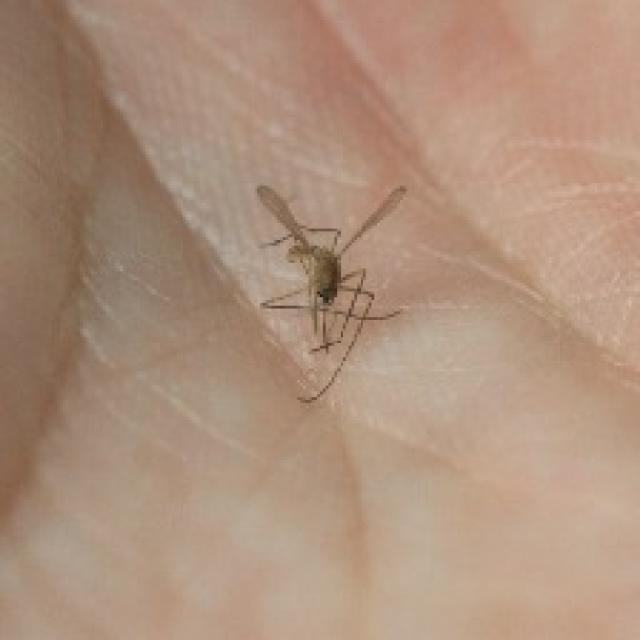culex: (252, 180, 408, 403)
